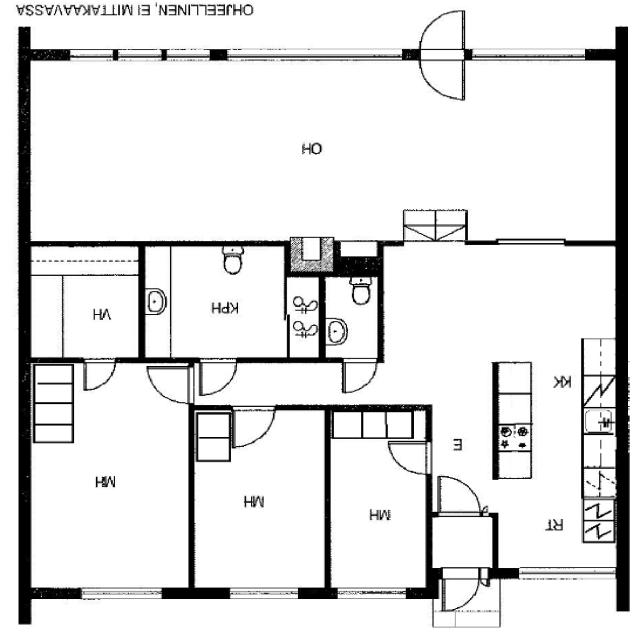door: (416, 7, 469, 103), (437, 566, 485, 614), (435, 472, 486, 517), (230, 404, 277, 449), (145, 364, 197, 404), (384, 437, 434, 476), (196, 357, 240, 398), (338, 357, 379, 395), (80, 357, 118, 394)
window: (223, 46, 412, 68), (467, 42, 597, 70), (510, 561, 618, 586), (74, 581, 170, 608), (327, 582, 416, 606), (62, 47, 162, 66), (220, 583, 307, 604), (490, 233, 574, 253), (112, 46, 170, 62), (160, 48, 215, 64), (424, 438, 438, 478)
zone: (28, 55, 625, 242), (380, 239, 626, 574), (27, 355, 194, 590), (192, 407, 330, 591), (141, 245, 318, 362), (327, 414, 430, 594), (27, 246, 144, 362), (322, 270, 377, 361), (429, 514, 495, 571)
